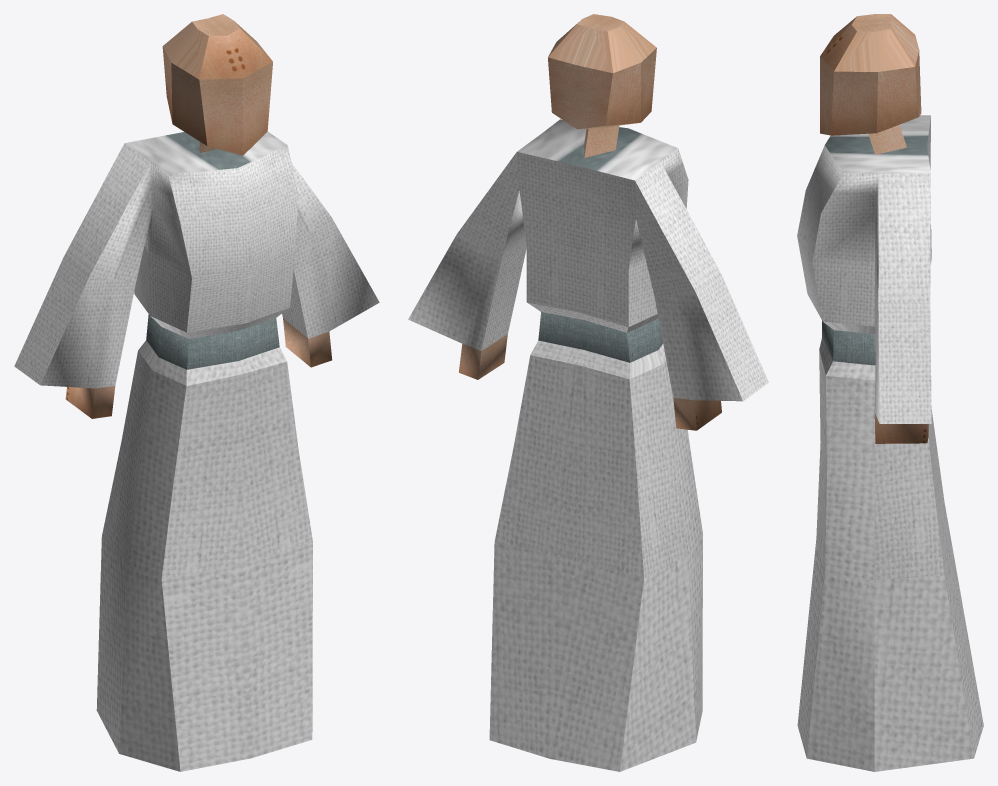
File: monk-1.glb
3 renders of one model, left to right at view 1: azimuth 30°, elevation 25°; view 2: azimuth 150°, elevation 25°; view 3: azimuth 270°, elevation 25°, orthographic.
Parts seen in each view (by area): view 1: body, Head; view 2: body, Head, Neck; view 3: body, Head, Neck.
Boxes of the visible parts, <box> form: body: <box>14,131,379,771</box>; Head: <box>162,14,272,155</box>; body: <box>408,119,768,771</box>; Head: <box>548,14,656,129</box>; Neck: <box>584,125,619,157</box>; body: <box>797,115,983,771</box>; Head: <box>820,14,921,135</box>; Neck: <box>868,125,906,154</box>.
Bounding box in the file's own units: 0.9975 × 1.98 × 0.4752.
1 material, 1 textured.
